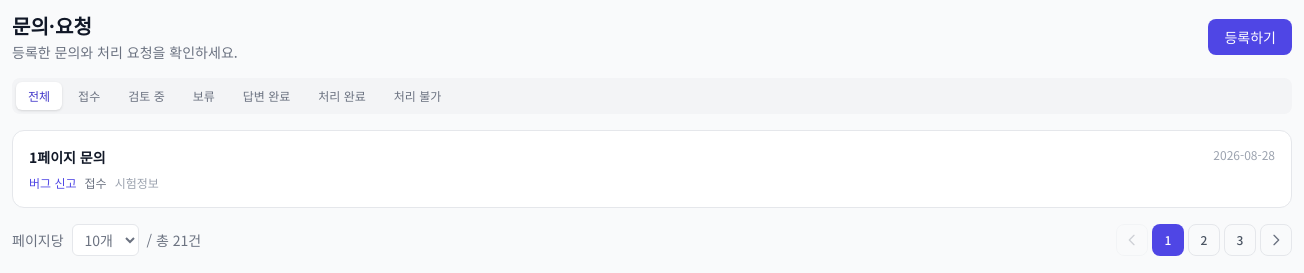
Scenario: UserInquiriesPage › 두 번째 페이지를 조회하고 영역은 제품 용어로 표시한다
Expected: the text "1페이지 문의" is shown, [29, 147, 106, 167]
Expected: the text "시험정보" is shown, [115, 175, 159, 191]
Click the button named "다음 페이지". click: (1276, 240)
box: [1260, 224, 1292, 256]
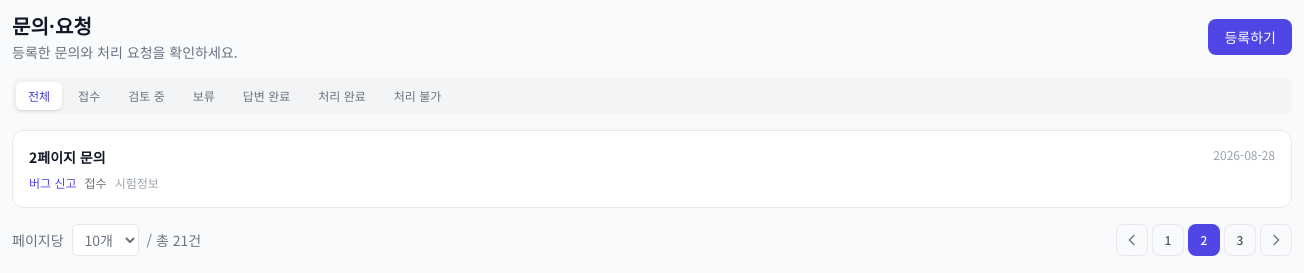
Expected: the text "2페이지 문의" is shown, [29, 147, 106, 167]
